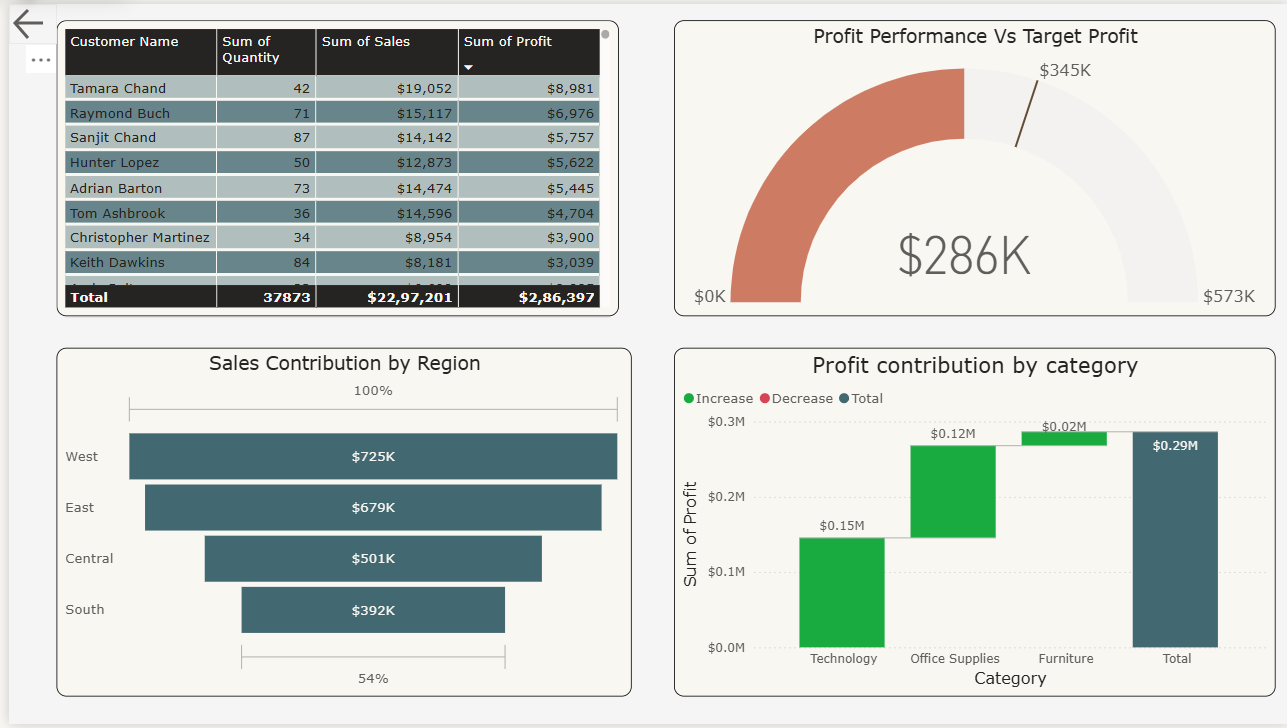

Layout of this report page (visuals, bound fields, positions):
{"tool":"powerbi","page":{"name":"Page 2","canvas":[1280,720],"ordinal":1},"visuals":[{"type":"pivotTable","fields":{"Rows":["super store sales.Customer Name"],"Values":["Sum(super store sales.Quantity)","Sum(super store sales.Sales)","Sum(super store sales.Profit)"]},"box":[47.5,16.2,562.5,296.2],"z":0},{"type":"gauge","title":"Profit Performance Vs Target Profit","fields":{"Y":["Sum(super store sales.Profit)"],"TargetValue":["super store sales.Target Profit"]},"box":[665,16.2,601.2,296.2],"z":1000},{"type":"funnel","title":"Sales Contribution by Region","fields":{"Category":["super store sales.Region"],"Y":["Sum(super store sales.Sales)"]},"box":[47.5,343.8,575,348.8],"z":2000},{"type":"waterfallChart","title":"Profit contribution by category","fields":{"Category":["super store sales.Category"],"Y":["Sum(super store sales.Profit)"]},"box":[665,343.8,601.2,348.8],"z":3000},{"type":"actionButton","box":[0,0,47.5,40],"z":4000}]}

Visuals, with their boxes in screenshot pixels (x1, y1, x2, y2):
pivotTable - super store sales.Customer Name x Sum(super store sales.Quantity): {"x1": 61, "y1": 19, "x2": 618, "y2": 313}
"Profit Performance Vs Target Profit" gauge: {"x1": 673, "y1": 19, "x2": 1269, "y2": 313}
"Sales Contribution by Region" funnel: {"x1": 61, "y1": 344, "x2": 631, "y2": 690}
"Profit contribution by category" waterfallChart: {"x1": 673, "y1": 344, "x2": 1269, "y2": 690}
actionButton: {"x1": 13, "y1": 3, "x2": 61, "y2": 43}
